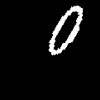chain: (49, 6, 82, 54)
